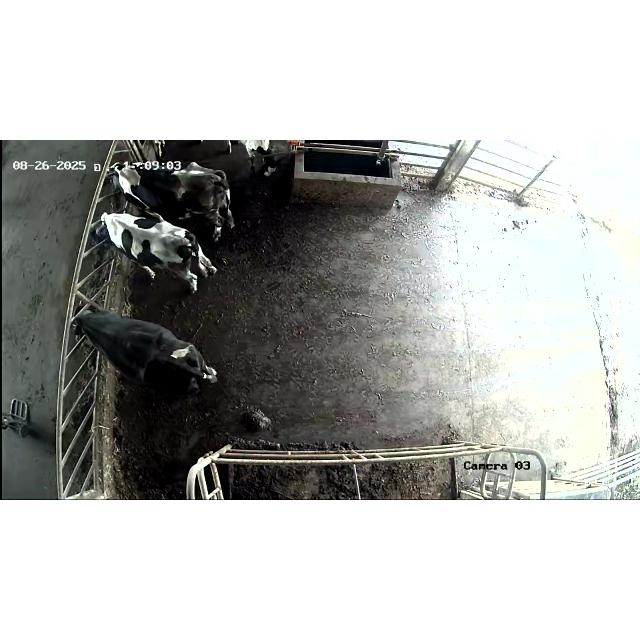eat: (46, 298, 120, 346), (74, 152, 140, 202), (66, 208, 132, 256)
